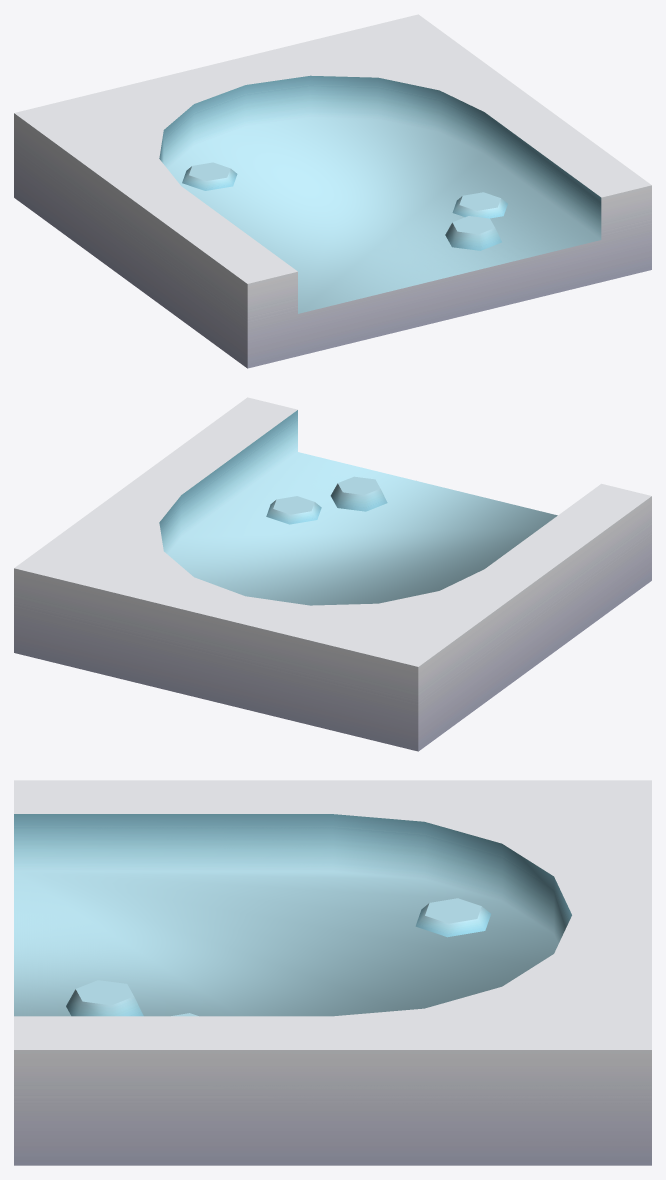
File: snow-tile-end-round.glb
The picture shows the model from 3 angles, top to bottom: view 1: azimuth 30°, elevation 25°; view 2: azimuth 150°, elevation 25°; view 3: azimuth 270°, elevation 25°; orthographic projection. The views are drawn at different scales.
Parts seen in each view (by area): view 1: snow-tile-end-round; view 2: snow-tile-end-round; view 3: snow-tile-end-round.
Boxes of the visible parts, x1,y1,x2,y2 form: snow-tile-end-round: (14, 14, 651, 368); snow-tile-end-round: (14, 397, 651, 751); snow-tile-end-round: (14, 780, 651, 1165).
Size of the model in its own units: 1 by 0.2 by 1.
Materials: 1 (1 with a texture image).
